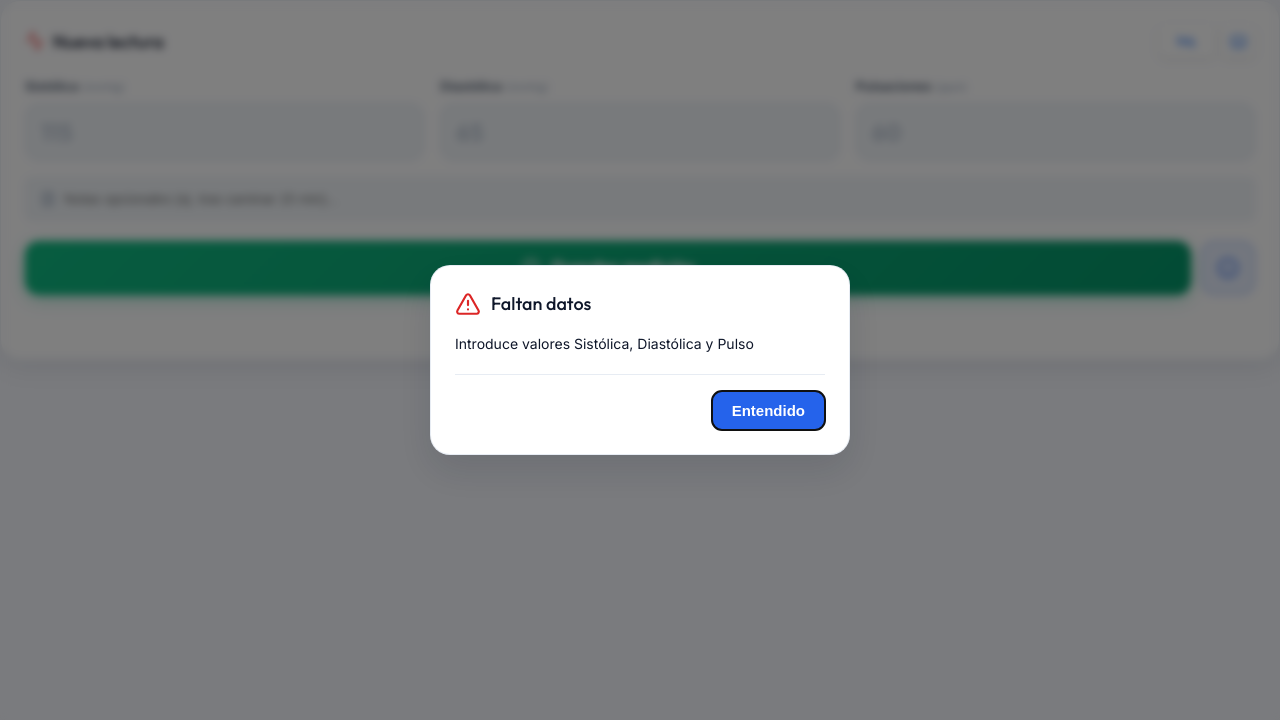
it: ReadingForm defensivo › cierra el diálogo de datos incompletos pulsando fuera de su contenido
The image size is (1280, 720).
Click the element that starts with "Faltan datos": point(77, 360) [0, 0, 1279, 719]
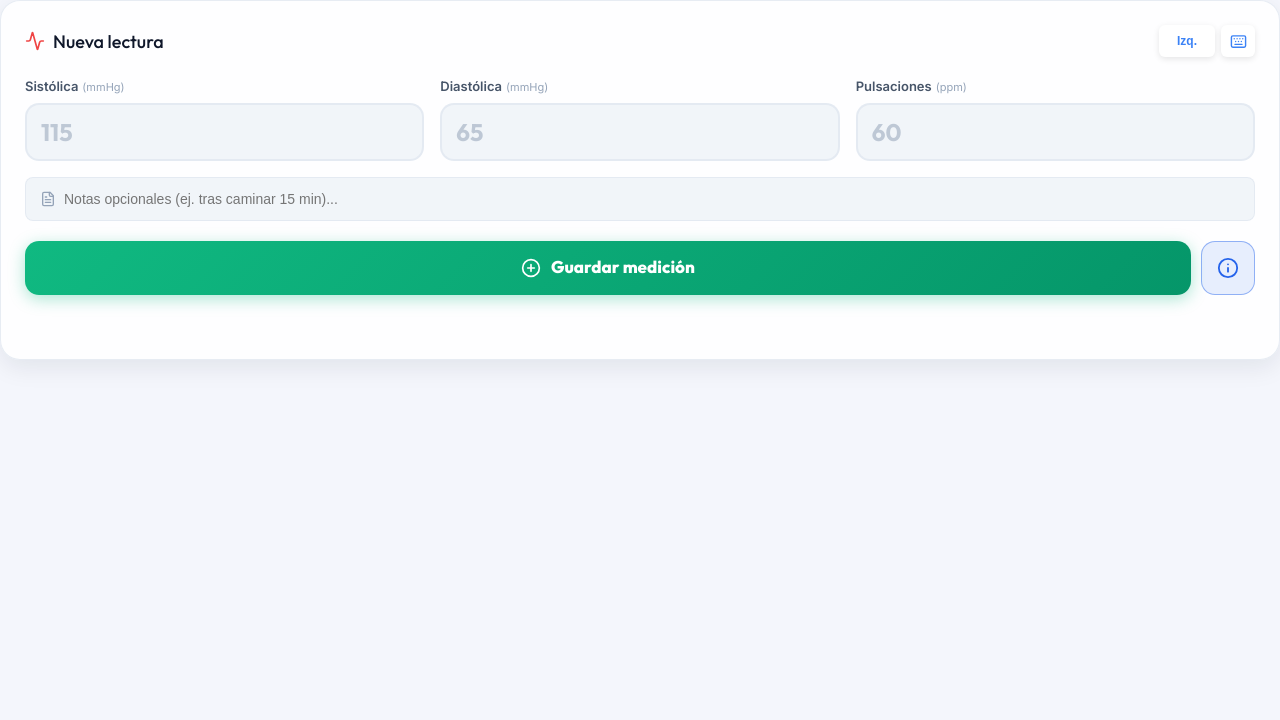
Check: the dialog with class "form-alert-dialog" is gone
